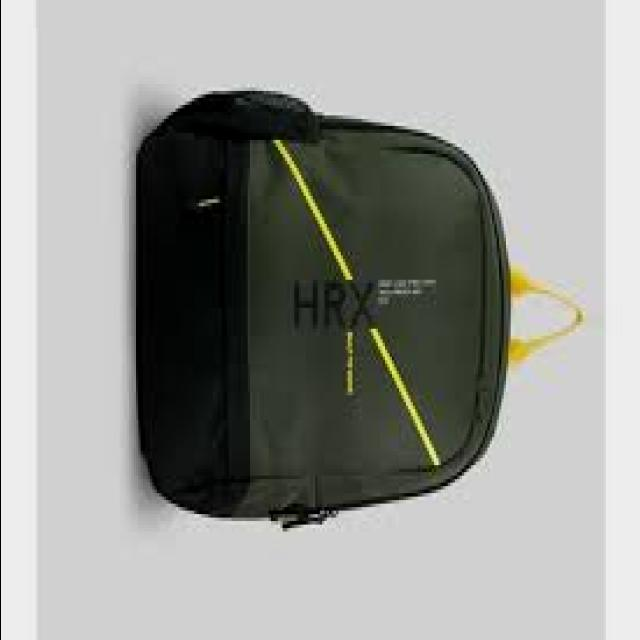backpack: (108, 68, 600, 567)
